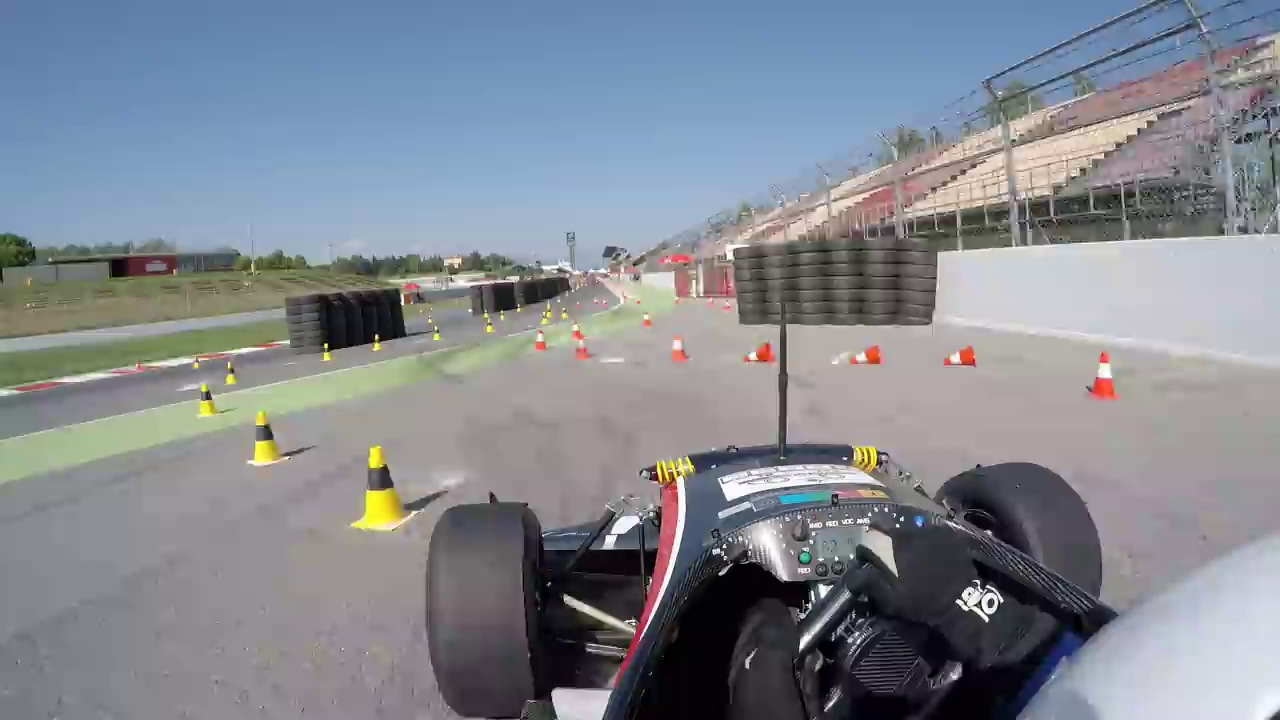Cone: (354, 441, 407, 535), (249, 409, 288, 467), (1088, 347, 1123, 400)
